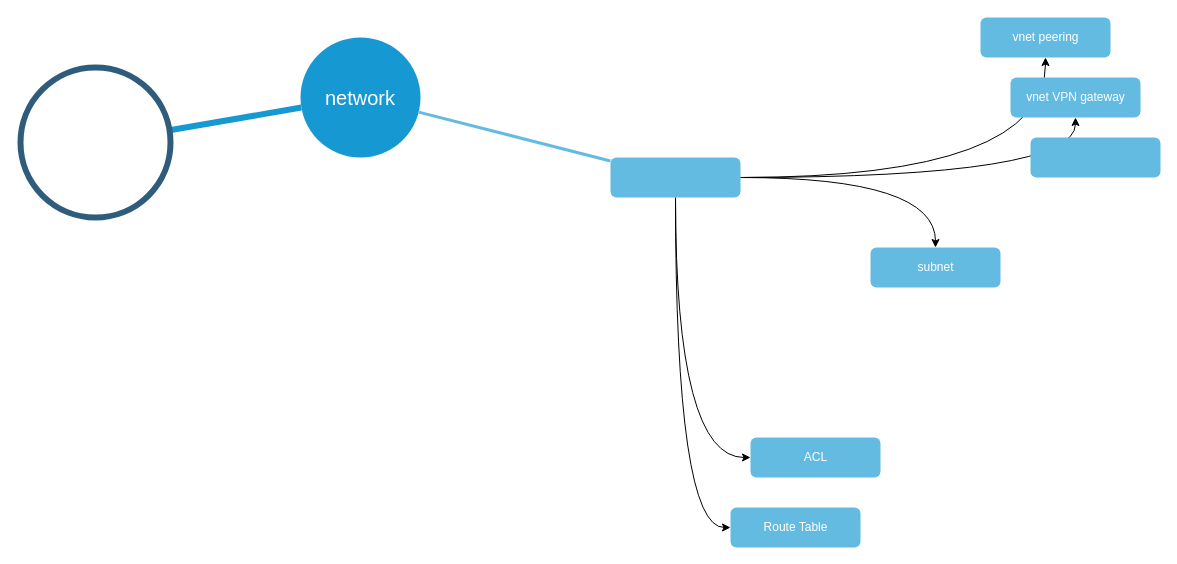
The diagram is 1177 pixels wide and 564 high, and some of its shapes have lost their labels. Here are the shapes that lost their labels. From the top down, the centre of each, then its label:
At (95,142): "AZure".
At (1095,157): "private link (private endpoint)".
At (675,177): "vnet".
